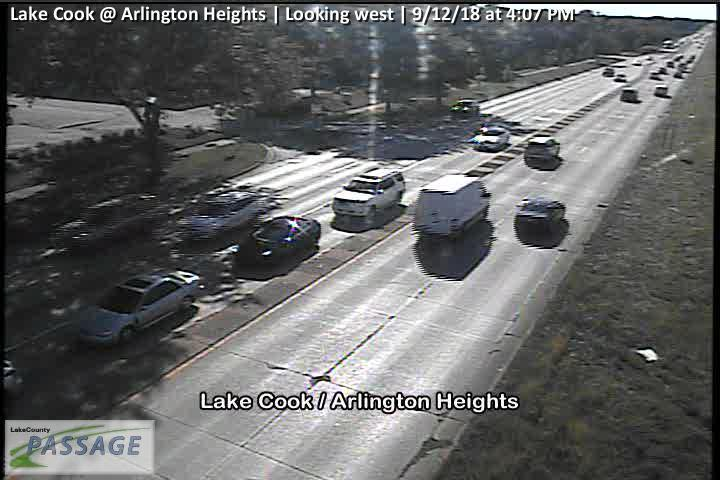SUV: (54, 193, 161, 245), (415, 175, 492, 239), (332, 168, 406, 217), (523, 134, 561, 168), (450, 100, 480, 116), (620, 87, 639, 102), (655, 85, 668, 97), (615, 73, 627, 83), (602, 68, 614, 76)
Sedan: (78, 269, 200, 343), (176, 190, 268, 239), (244, 216, 321, 260), (515, 197, 565, 231), (472, 125, 510, 152)
